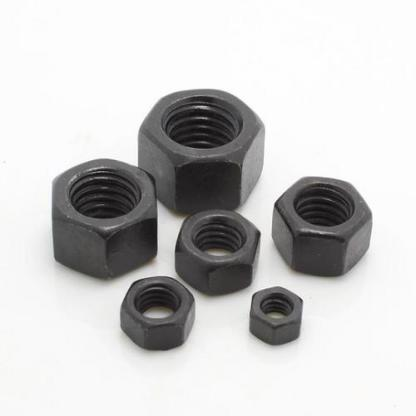FOD: (136, 87, 267, 216), (47, 158, 159, 284), (270, 174, 374, 279), (173, 206, 264, 297), (117, 275, 196, 352), (246, 285, 305, 347)
